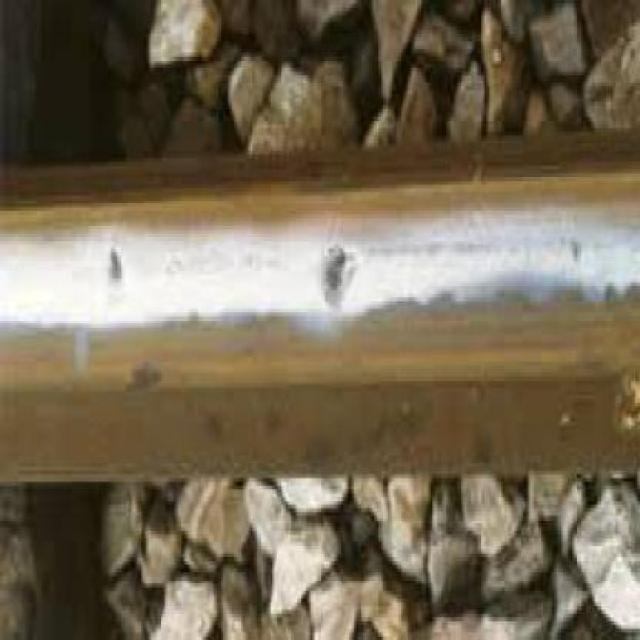defective: (0, 134, 640, 500)
